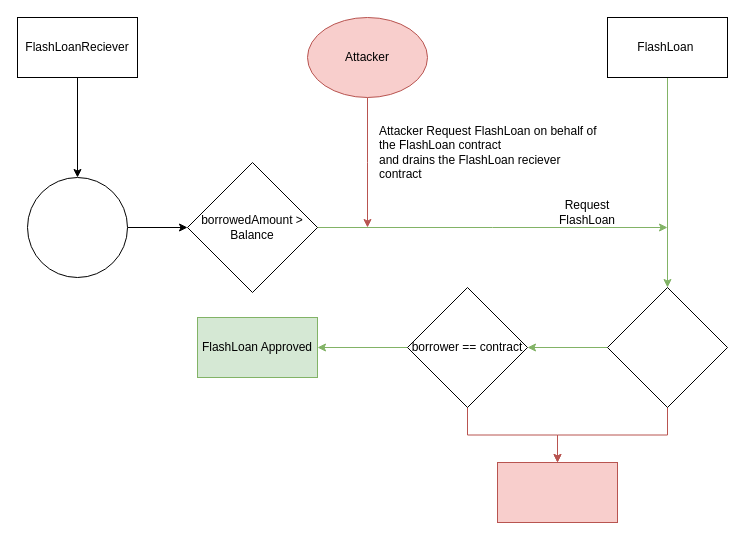
This 745x540 diagram has some shape labels left out. Each missing label, with the centre of its shape:
"borrowAmount > balanceBefore" goes at point (667, 347).
"Caculate fees + borrowAmount" goes at point (77, 227).
"Request Aborted" goes at point (557, 492).
